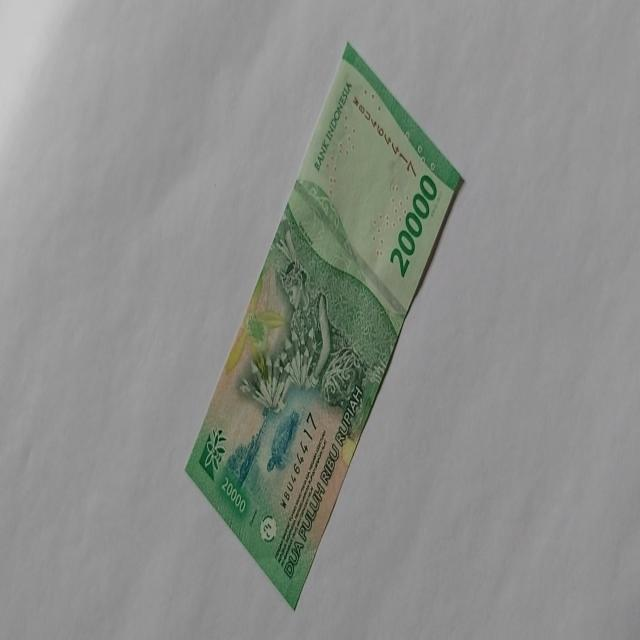dua puluh ribu rupiah: (183, 40, 464, 610)
